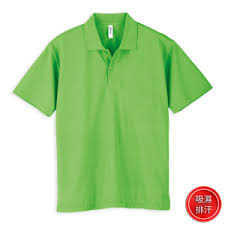C_polo shirt: (22, 15, 208, 208)
